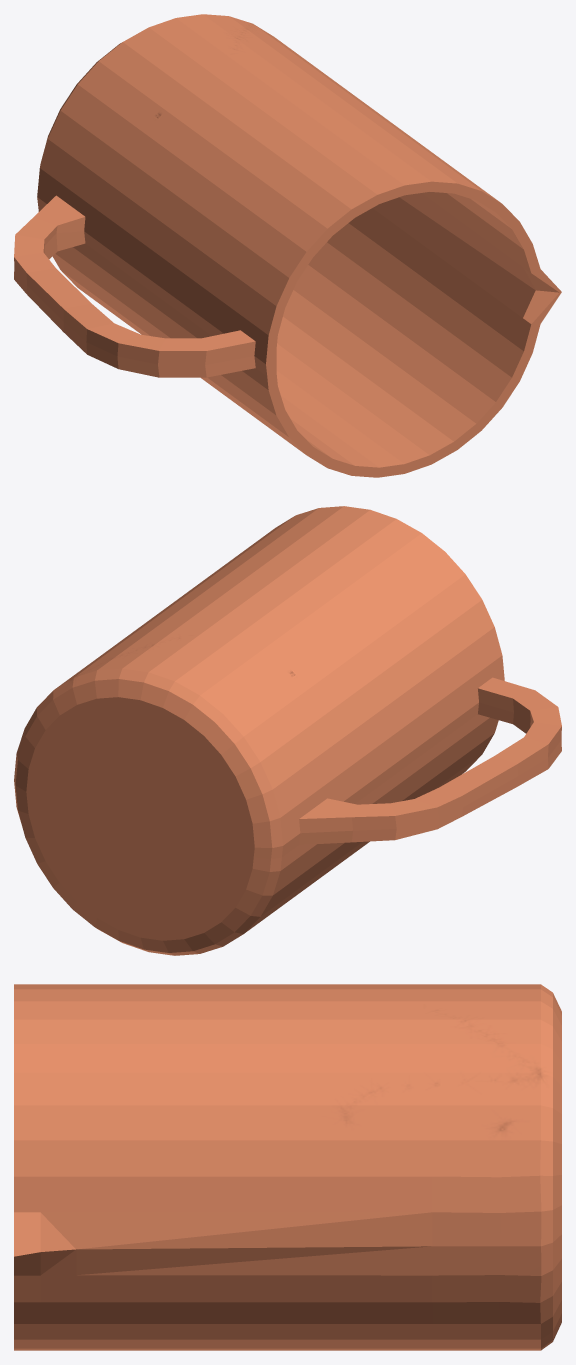
3 renders of one model, top to bottom at view 1: azimuth 30°, elevation 25°; view 2: azimuth 150°, elevation 25°; view 3: azimuth 270°, elevation 25°, orthographic. The views are drawn at different scales.
Size of the model in its own units: 0.9897 by 0.669 by 1.
